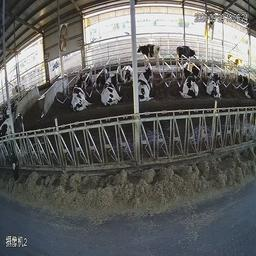cow: (8, 105, 26, 192), (65, 67, 92, 114), (176, 64, 201, 105), (98, 72, 125, 106), (138, 66, 156, 105), (137, 36, 161, 65), (171, 40, 200, 64), (234, 71, 255, 104), (206, 70, 227, 102), (219, 48, 248, 70), (119, 60, 133, 85), (93, 62, 106, 86)
